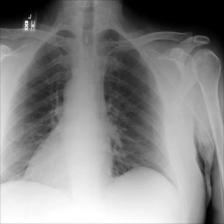normal: (0, 26, 182, 192)
